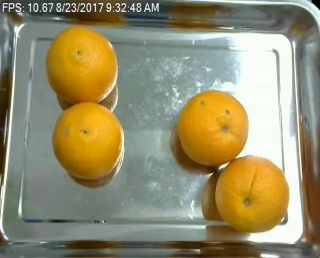Orange: (213, 154, 289, 233), (176, 89, 250, 169), (46, 25, 117, 105), (51, 102, 124, 179)
